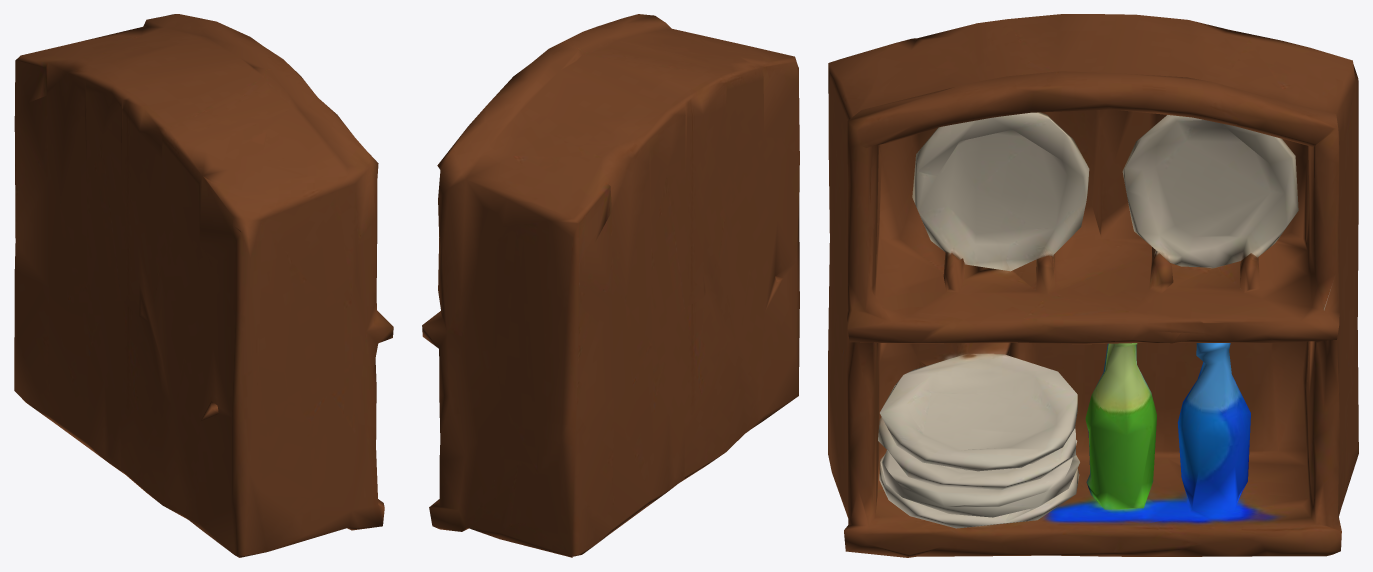
File: plates_shelf.glb
3 renders of one model, left to right at view 1: azimuth 30°, elevation 25°; view 2: azimuth 150°, elevation 25°; view 3: azimuth 270°, elevation 25°, orthographic. The views are drawn at different scales.
Parts seen in each view (by area): view 1: tripo_node_16b209a3-4dc4-4f43-a992-968b03364c90; view 2: tripo_node_16b209a3-4dc4-4f43-a992-968b03364c90; view 3: tripo_node_16b209a3-4dc4-4f43-a992-968b03364c90.
Part boxes in pixels (<box>): tripo_node_16b209a3-4dc4-4f43-a992-968b03364c90: <box>14,14,393,557</box>; tripo_node_16b209a3-4dc4-4f43-a992-968b03364c90: <box>422,14,799,557</box>; tripo_node_16b209a3-4dc4-4f43-a992-968b03364c90: <box>828,14,1358,557</box>.
Size of the model in its own units: 0.4546 by 0.981 by 1.
1 material, 1 textured.
